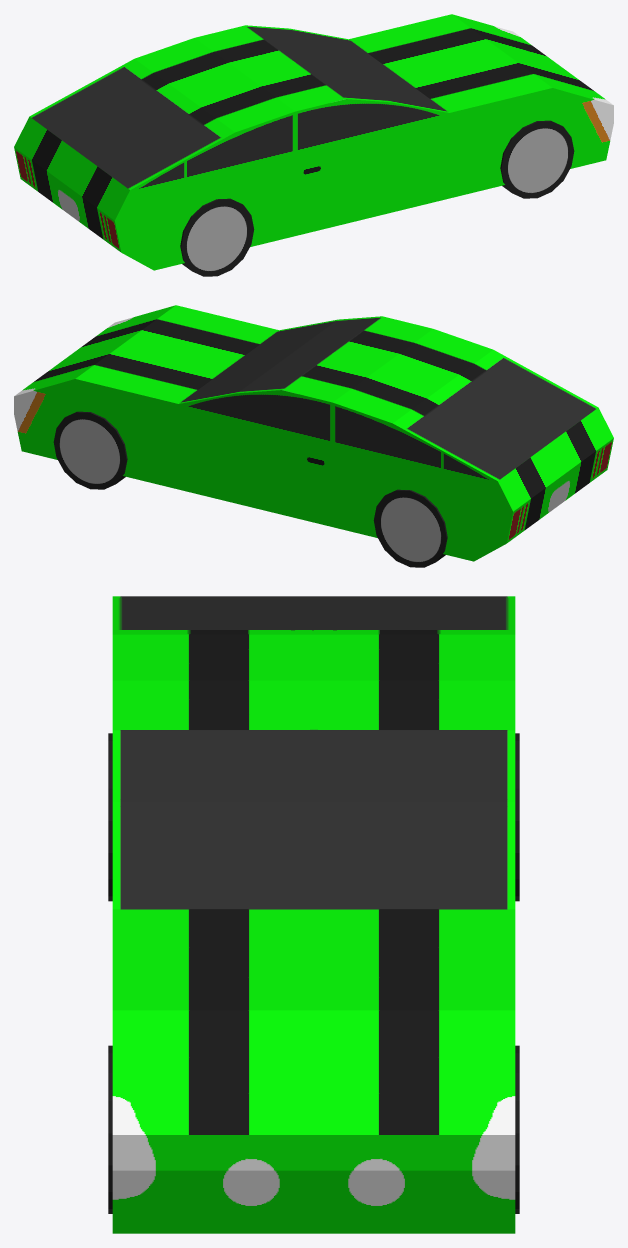
Rendered from sport.dae.
3 renders of one model, top to bottom at view 1: azimuth 30°, elevation 25°; view 2: azimuth 150°, elevation 25°; view 3: azimuth 270°, elevation 25°, orthographic. The views are drawn at different scales.
Visible parts, largest first — view 1: Plane; view 2: Plane; view 3: Plane.
Boxes of the visible parts, <box> form: Plane: <box>14,14,613,276</box>; Plane: <box>14,305,613,567</box>; Plane: <box>108,596,519,1233</box>.
Size of the model in its own units: 1.56 by 0.5555 by 0.4313.
